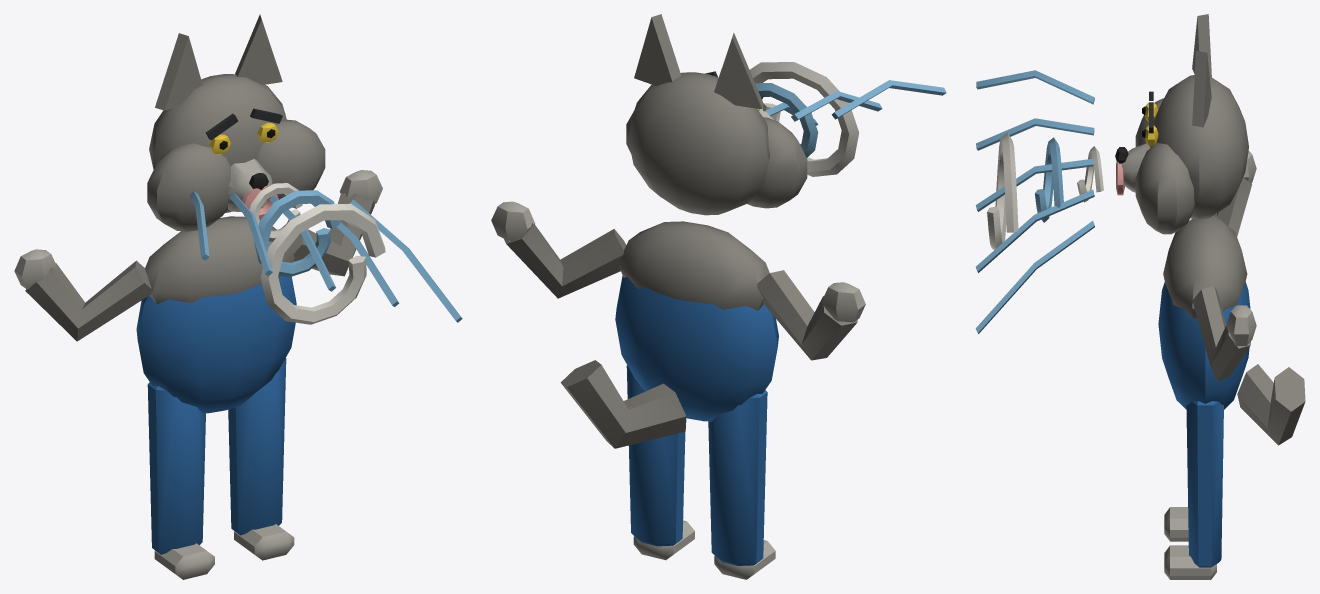
File: 177_grand_mechant_loup_souffle.fbx
3 renders of one model, left to right at view 1: azimuth 30°, elevation 25°; view 2: azimuth 150°, elevation 25°; view 3: azimuth 270°, elevation 25°, orthographic. The views are drawn at different scales.
Parts seen in each view (by area): view 1: Corps, Souffle; view 2: Corps, Souffle; view 3: Corps, Souffle.
Boxes of the visible parts, x1,y1,x2,y2 form: Corps: [14, 14, 382, 579]; Souffle: [189, 183, 462, 324]; Corps: [491, 14, 865, 579]; Souffle: [749, 62, 946, 176]; Corps: [1115, 14, 1305, 579]; Souffle: [975, 70, 1103, 333].
Bounding box in the file's own units: 1.4 × 1.96 × 1.12.
Materials: 1 (1 with a texture image).
